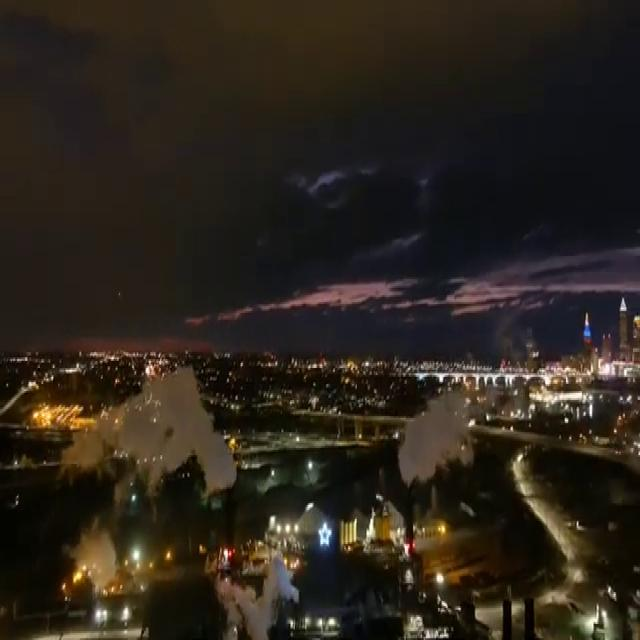smoke: (100, 368, 237, 500), (61, 501, 137, 613), (219, 542, 299, 640), (399, 388, 473, 484)
